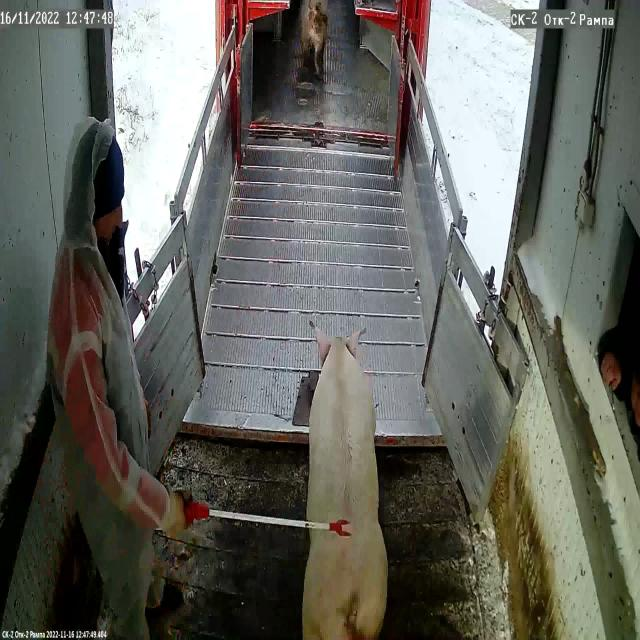pig: (303, 330, 388, 640), (302, 0, 328, 52)
